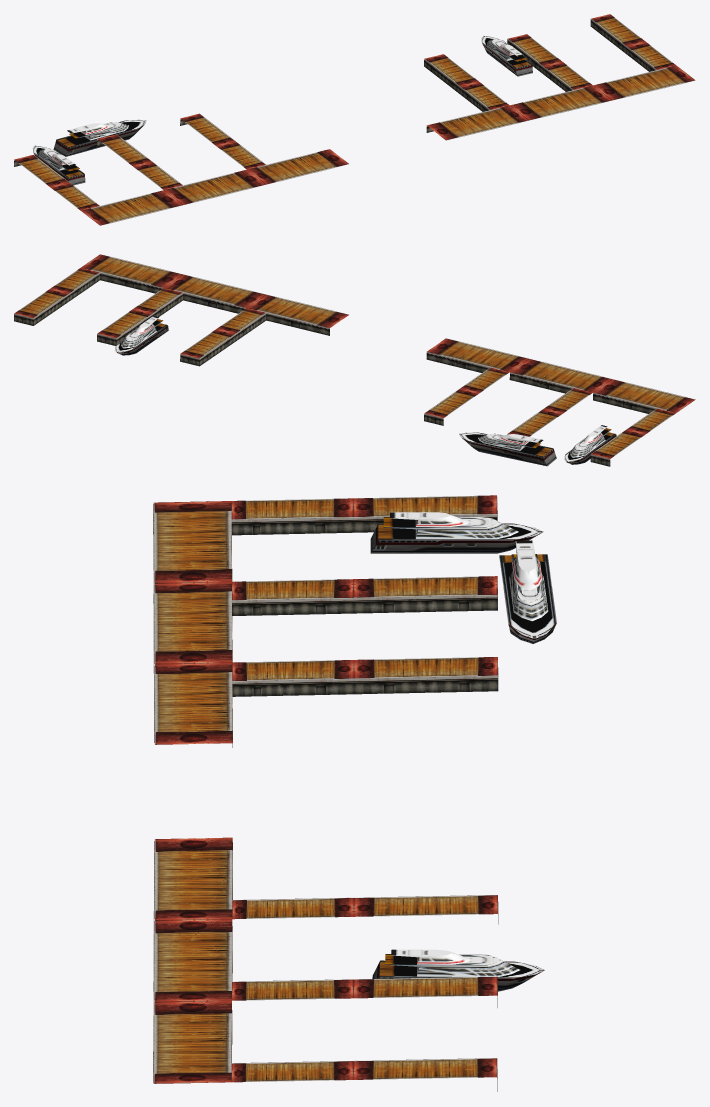
Rendered from bridge_ship_end2.fbx.
3 views of the same model, one above another, from view 1: azimuth 30°, elevation 25°; view 2: azimuth 150°, elevation 25°; view 3: azimuth 270°, elevation 25° (orthographic). The views are drawn at different scales.
Parts seen in each view (by area): view 1: bridge_ship_end2; view 2: bridge_ship_end2; view 3: bridge_ship_end2.
Part boxes in pixels (bbox=[...]): bridge_ship_end2: bbox=[14, 14, 695, 225]; bridge_ship_end2: bbox=[14, 254, 695, 466]; bridge_ship_end2: bbox=[153, 495, 556, 1091].
Size of the model in its own units: 11321 by 339 by 3321.
